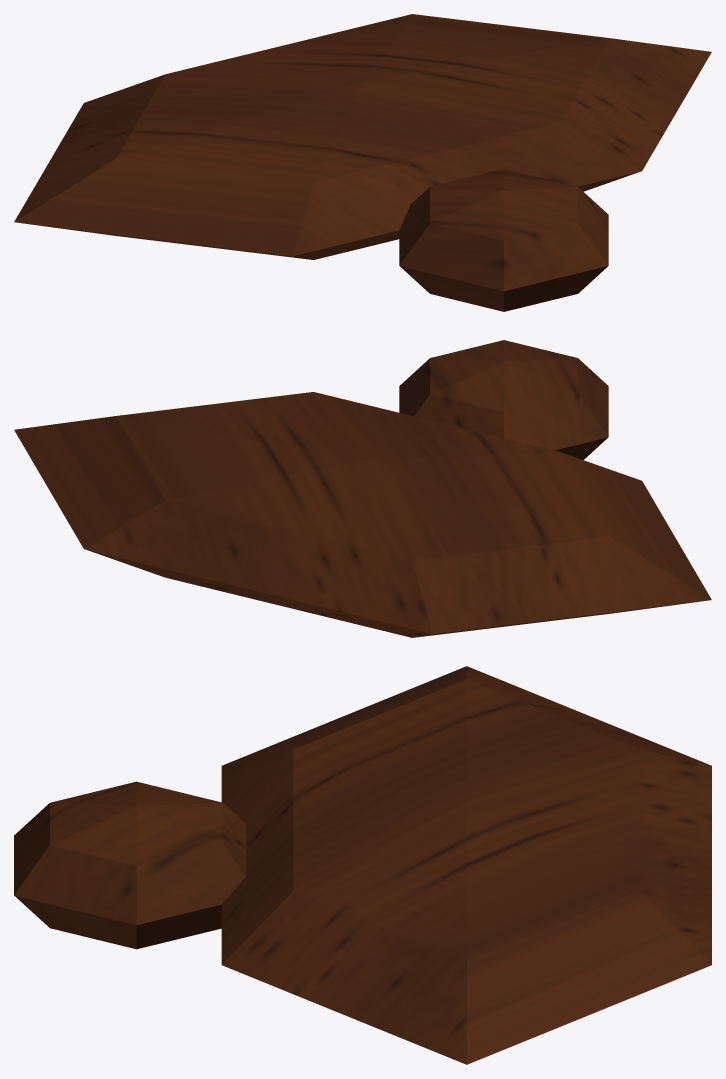
Rendered from PROP-984F6F11DA60_lod2.glb.
3 views of the same model, one above another, from view 1: azimuth 30°, elevation 25°; view 2: azimuth 150°, elevation 25°; view 3: azimuth 270°, elevation 25° (orthographic). The views are drawn at different scales.
Parts seen in each view (by area): view 1: small_roadside_animal.001, small_animal_head.001; view 2: small_roadside_animal.001, small_animal_head.001; view 3: small_roadside_animal.001, small_animal_head.001.
Part boxes in pixels (x1=…): small_roadside_animal.001: x1=14, y1=14, x2=711, y2=259; small_animal_head.001: x1=399, y1=168, x2=608, y2=311; small_roadside_animal.001: x1=14, y1=392, x2=711, y2=637; small_animal_head.001: x1=399, y1=340, x2=608, y2=459; small_roadside_animal.001: x1=221, y1=666, x2=711, y2=1064; small_animal_head.001: x1=14, y1=781, x2=245, y2=949.
Bounding box in the file's own units: 0.8 × 0.12 × 0.5918.
1 material, 1 textured.
